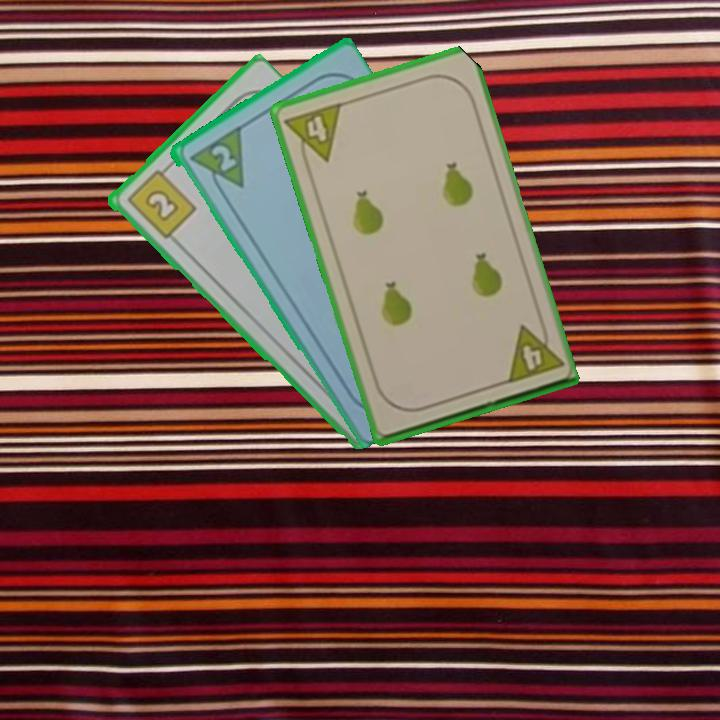2b: (122, 161, 199, 242)
2p: (185, 123, 247, 201)
4p: (501, 317, 565, 387), (281, 99, 344, 170)
